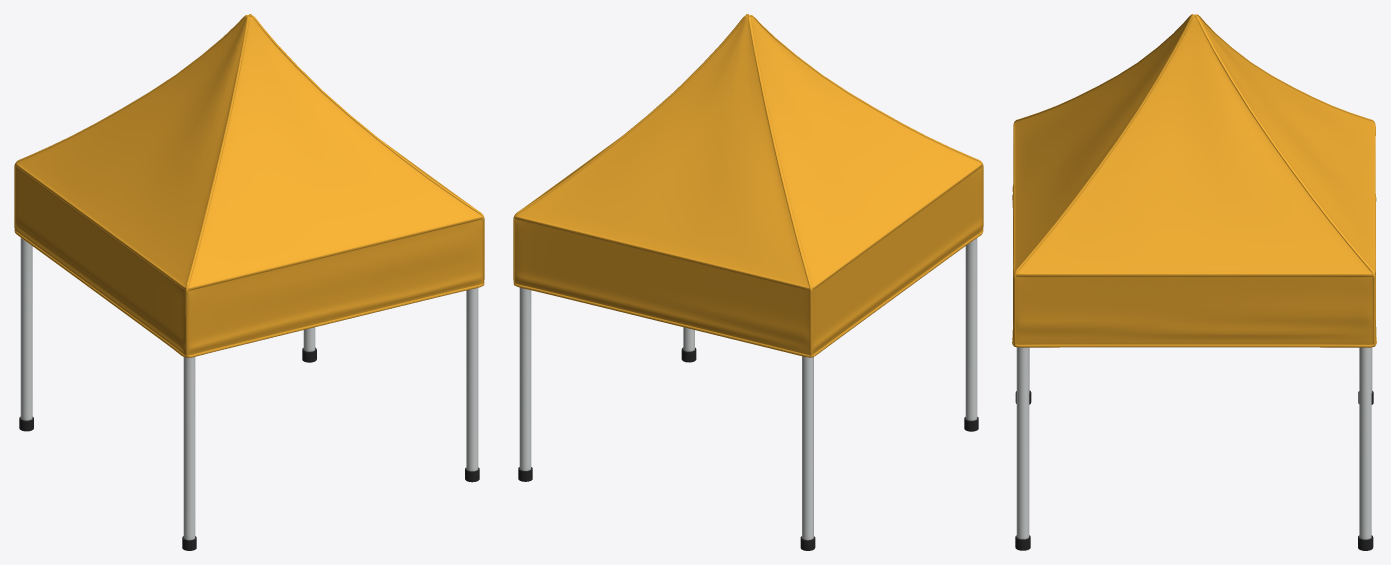
The model's file is tent-5x5.glb.
3 renders of one model, left to right at view 1: azimuth 30°, elevation 25°; view 2: azimuth 150°, elevation 25°; view 3: azimuth 270°, elevation 25°, orthographic. The views are drawn at different scales.
Visible parts, largest first — view 1: fabric, leg5; view 2: fabric, leg5; view 3: fabric, leg5.
Boxes of the visible parts, <box> form: fabric: <box>14,14,484,357</box>; leg5: <box>19,238,479,550</box>; fabric: <box>513,14,983,357</box>; leg5: <box>518,238,978,550</box>; fabric: <box>1012,14,1376,347</box>; leg5: <box>1015,347,1373,550</box>.
Size of the model in its own units: 1.53 by 2.13 by 1.53.
3 materials, 2 textured.
